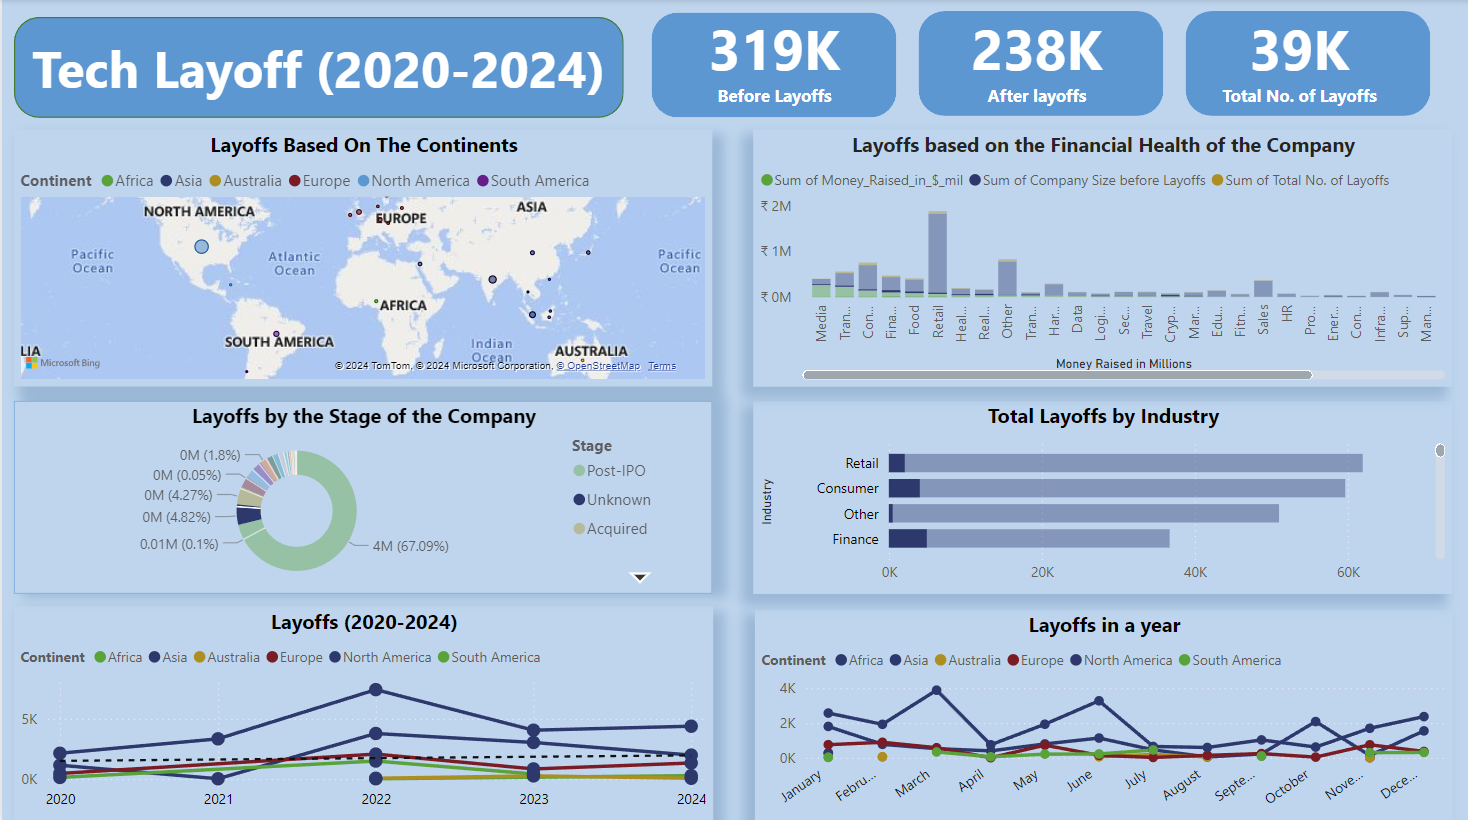

This screenshot's page, from the dashboard's own definition file:
{"tool":"powerbi","page":{"name":"Page 1","canvas":[1280,720],"ordinal":0},"visuals":[{"type":"map","title":"Layoffs based on the Continents","fields":{"Category":["Tech-Layoff.Country"],"Size":["Sum(Tech-Layoff.Laid_Off)"],"Series":["Tech-Layoff.Continent"]},"box":[0,116.9,593.4,232.4],"z":0},{"type":"lineChart","title":" Layoffs in a year","fields":{"Category":["Tech-Layoff.Date_layoffs.Variation.Date Hierarchy.Month"],"Y":["Sum(Tech-Layoff.Laid_Off)"],"Series":["Tech-Layoff.Continent"]},"box":[0,536.4,593.4,184.1],"z":1000},{"type":"lineChart","title":"Layoffs from 2020 - 2024","fields":{"Category":["Tech-Layoff.Date_layoffs.Variation.Date Hierarchy.Year","Tech-Layoff.Date_layoffs.Variation.Date Hierarchy.Quarter","Tech-Layoff.Date_layoffs.Variation.Date Hierarchy.Month","Tech-Layoff.Date_layoffs.Variation.Date Hierarchy.Day"],"Y":["Sum(Tech-Layoff.Laid_Off)"],"Series":["Tech-Layoff.Continent"]},"box":[0,349.3,593.4,187.1],"z":2000},{"type":"donutChart","title":"Layoffs by the Stage of the Company","fields":{"Y":["Sum(Tech-Layoff.Company_Size_before_Layoffs)","Sum(Tech-Layoff.Percentage)","Sum(Tech-Layoff.Laid_Off)"],"Category":["Tech-Layoff.Stage"]},"box":[985.7,251.4,293.8,254.4],"z":3000},{"type":"columnChart","title":" Total Layoffs by Industry","fields":{"Category":["Tech-Layoff.Industry"],"Y":["Sum(Tech-Layoff.Total No. of Layoffs)"]},"box":[608.3,522,670.2,198.5],"z":4000},{"type":"scatterChart","title":"Layoffs based on the Financial Health of the Company","fields":{"X":["Sum(Tech-Layoff.Money_Raised_in_$_mil)"],"Size":["Sum(Tech-Layoff.Company_Size_before_Layoffs)"],"Y":["Sum(Tech-Layoff.Laid_Off)"],"Series":["Tech-Layoff.Industry"]},"box":[608.7,236.2,328.6,227.1],"z":5000},{"type":"card","title":"Total No.of Layoffs","fields":{"Values":["Sum(Tech-Layoff.Total No. of Layoffs)"]},"box":[884.3,116.6,230.2,110.5],"z":6000},{"type":"card","title":"Company Size after Layoffs","fields":{"Values":["Sum(Tech-Layoff.Company Size after layoffs)"]},"box":[1029.7,7.6,249.8,90.9],"z":7000},{"type":"card","title":"Company Size before Layoffs","fields":{"Values":["Sum(Tech-Layoff.Company Size before Layoffs)"]},"box":[682.9,4.5,260.4,93.9],"z":8000},{"type":"textbox","box":[18.2,7.6,490.6,54.5],"z":9000}]}

Visuals, with their boxes in screenshot pixels (x1, y1, x2, y2), scaled from the page's 1280x720 canvas onto the 1468x820 screenshot:
"Layoffs based on the Continents" map: bbox(0, 133, 681, 398)
" Layoffs in a year" lineChart: bbox(0, 611, 681, 819)
"Layoffs from 2020 - 2024" lineChart: bbox(0, 398, 681, 611)
"Layoffs by the Stage of the Company" donutChart: bbox(1130, 286, 1467, 576)
" Total Layoffs by Industry" columnChart: bbox(698, 594, 1466, 819)
"Layoffs based on the Financial Health of the Company" scatterChart: bbox(698, 269, 1075, 528)
"Total No.of Layoffs" card: bbox(1014, 133, 1278, 259)
"Company Size after Layoffs" card: bbox(1181, 9, 1467, 112)
"Company Size before Layoffs" card: bbox(783, 5, 1082, 112)
textbox: bbox(21, 9, 584, 71)
